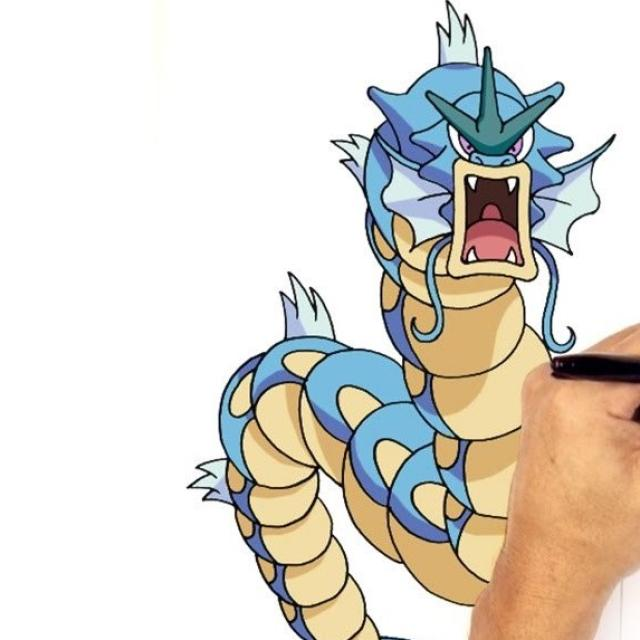Gyarados: (180, 38, 581, 640)
